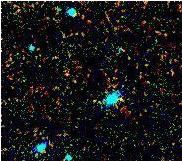star: (107, 82, 137, 112)
